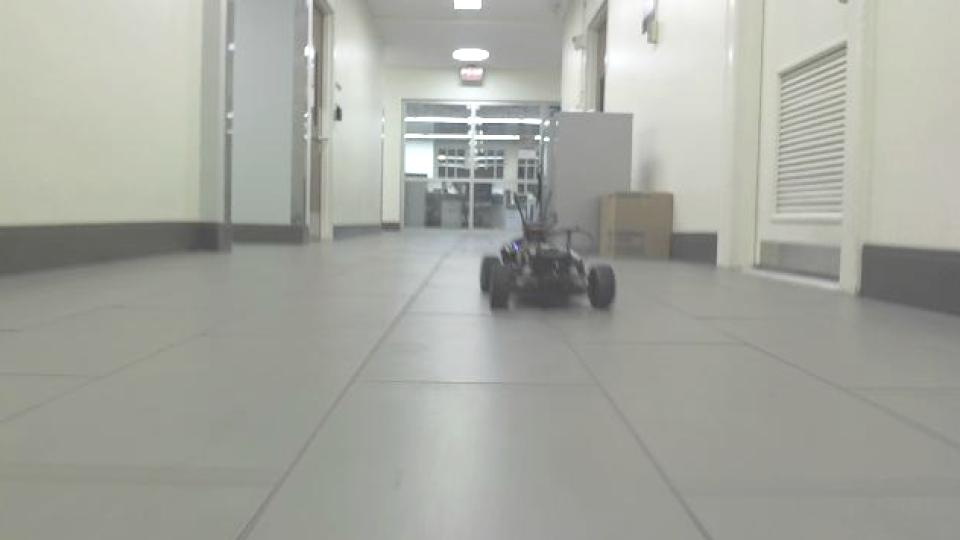car: (476, 187, 618, 314)
